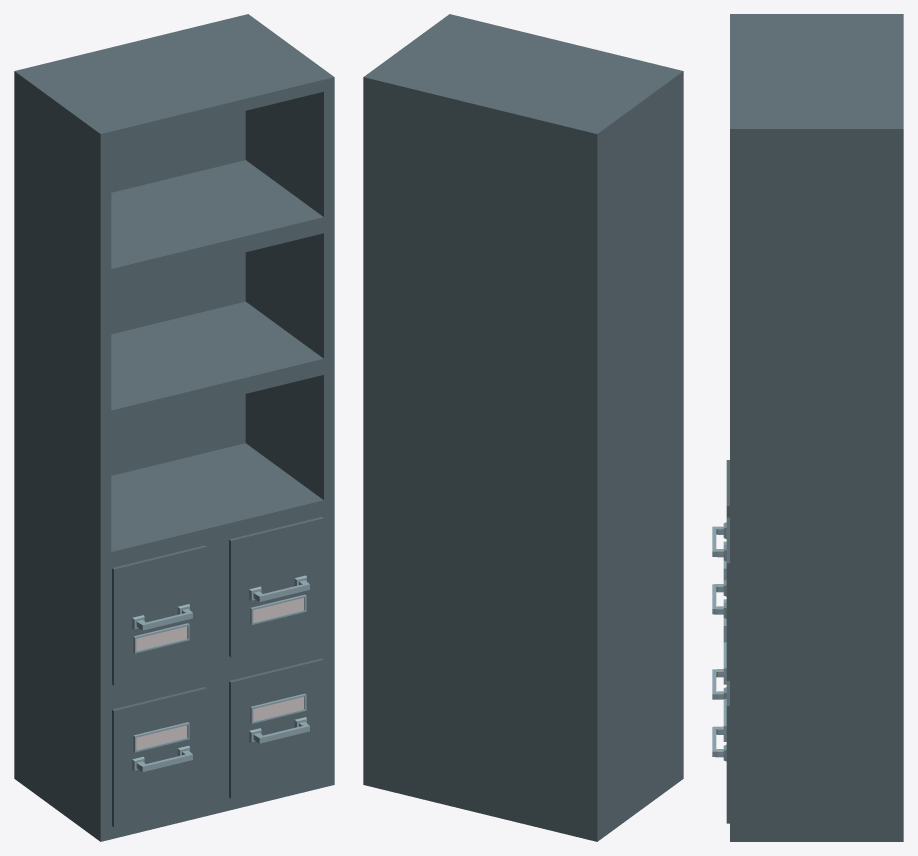
The model's file is BookshelfV2.fbx.
The picture shows the model from 3 angles, left to right: view 1: azimuth 30°, elevation 25°; view 2: azimuth 150°, elevation 25°; view 3: azimuth 270°, elevation 25°; orthographic projection.
Parts seen in each view (by area): view 1: BookshelfV2, BookshelfV2_Drawer4, BookshelfV2_Drawer1, BookshelfV2_Drawer2, BookshelfV2_Drawer3; view 2: BookshelfV2; view 3: BookshelfV2, BookshelfV2_Drawer1, BookshelfV2_Drawer3, BookshelfV2_Drawer2, BookshelfV2_Drawer4.
Part boxes in pixels (<box>): BookshelfV2: <box>14,14,334,841</box>; BookshelfV2_Drawer4: <box>112,687,207,827</box>; BookshelfV2_Drawer1: <box>229,517,324,657</box>; BookshelfV2_Drawer2: <box>112,545,207,685</box>; BookshelfV2_Drawer3: <box>229,658,324,798</box>; BookshelfV2: <box>363,14,683,841</box>; BookshelfV2: <box>730,14,903,841</box>; BookshelfV2_Drawer1: <box>712,517,729,680</box>; BookshelfV2_Drawer3: <box>712,681,729,823</box>; BookshelfV2_Drawer2: <box>712,460,729,580</box>; BookshelfV2_Drawer4: <box>712,642,726,699</box>.
Size of the model in its own units: 69.16 by 200 by 48.68.
